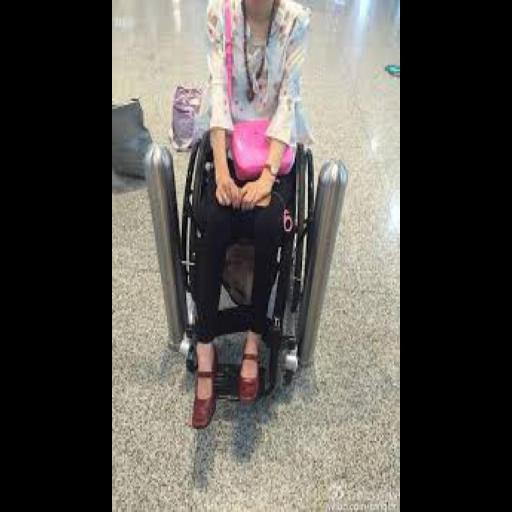cadeira_de_rodas: (182, 0, 329, 381)
